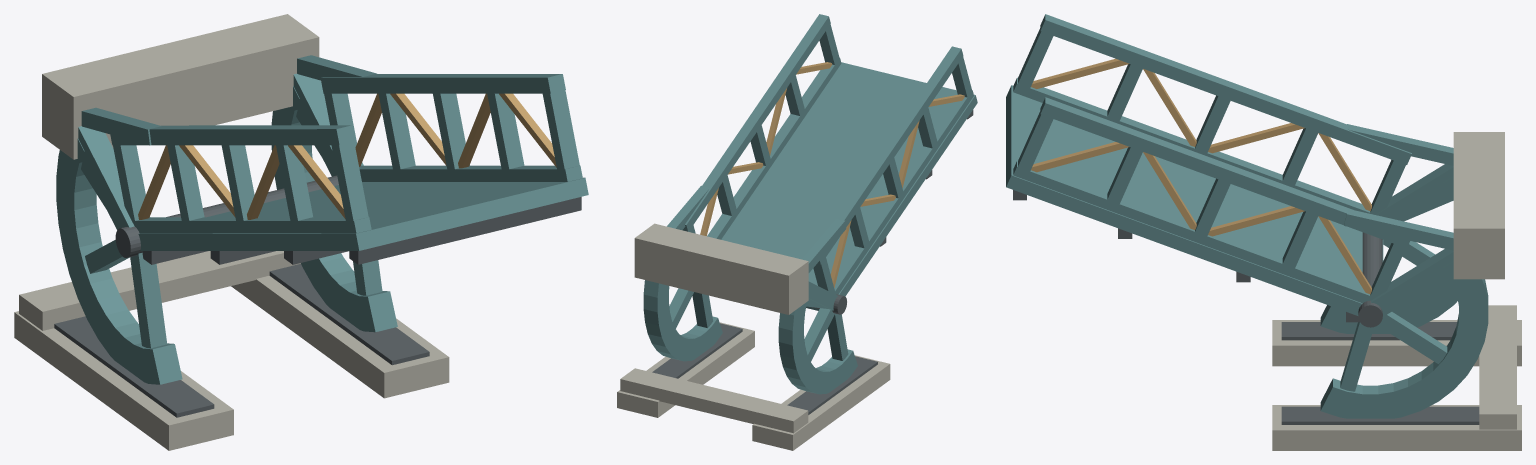
3 renders of one model, left to right at view 1: azimuth 30°, elevation 25°; view 2: azimuth 150°, elevation 25°; view 3: azimuth 270°, elevation 25°, orthographic. The views are drawn at different scales.
Parts seen in each view (by area): view 1: WholeRaisedDeckAndWindowedTrusses, WholeTransverseRearCounterweight, WholeOpenCurvedRollingHeel_-1, WholeGroundFootBearingPier_-1, WholeGroundFootBearingPier_1, WholeFixedRearApproach, WholeOpenCurvedRollingHeel_1, WholeUnderdeckCrossBearer_3, WholeFlatHeelBearingRail_1, WholeFlatHeelBearingRail_-1, WholeRearCounterweightArm_-1, WholeHeelSpoke_-10 (+14 smaller); view 2: WholeRaisedDeckAndWindowedTrusses, WholeTransverseRearCounterweight, WholeFixedRearApproach, WholeOpenCurvedRollingHeel_-1, WholeGroundFootBearingPier_-1, WholeOpenCurvedRollingHeel_1, WholeGroundFootBearingPier_1, WholeFlatHeelBearingRail_-1, WholeFlatHeelBearingRail_1, WholeRearCounterweightUpperBrace_-1, WholeHeelSpoke_-11, WholeHeelSpoke_-10 (+7 smaller); view 3: WholeRaisedDeckAndWindowedTrusses, WholeOpenCurvedRollingHeel_1, WholeTransverseRearCounterweight, WholeGroundFootBearingPier_1, WholeFixedRearApproach, WholeGroundFootBearingPier_-1, WholeFlatHeelBearingRail_1, WholeOpenCurvedRollingHeel_-1, WholeRearCounterweightArm_1, WholeRearCounterweightUpperBrace_1, WholeRearCounterweightArm_-1, WholeFlatHeelBearingRail_-1 (+13 smaller).
Boxes of the visible parts, <box> form: WholeRaisedDeckAndWindowedTrusses: <box>110,74,588,250</box>; WholeTransverseRearCounterweight: <box>42,14,319,159</box>; WholeOpenCurvedRollingHeel_-1: <box>56,138,182,384</box>; WholeGroundFootBearingPier_-1: <box>14,311,233,450</box>; WholeGroundFootBearingPier_1: <box>231,275,449,398</box>; WholeFixedRearApproach: <box>19,251,300,330</box>; WholeOpenCurvedRollingHeel_1: <box>271,86,397,332</box>; WholeUnderdeckCrossBearer_3: <box>349,197,581,264</box>; WholeFlatHeelBearingRail_1: <box>269,264,429,365</box>; WholeFlatHeelBearingRail_-1: <box>54,316,214,417</box>; WholeRearCounterweightArm_-1: <box>78,126,134,229</box>; WholeHeelSpoke_-10: <box>130,252,167,348</box>; WholeRaisedDeckAndWindowedTrusses: <box>682,14,977,310</box>; WholeTransverseRearCounterweight: <box>634,223,808,314</box>; WholeFixedRearApproach: <box>620,368,808,433</box>; WholeOpenCurvedRollingHeel_-1: <box>778,289,857,394</box>; WholeGroundFootBearingPier_-1: <box>752,355,890,450</box>; WholeOpenCurvedRollingHeel_1: <box>643,280,722,361</box>; WholeGroundFootBearingPier_1: <box>617,322,754,417</box>; WholeFlatHeelBearingRail_-1: <box>787,356,877,414</box>; WholeFlatHeelBearingRail_1: <box>652,323,742,378</box>; WholeRearCounterweightUpperBrace_-1: <box>802,219,846,272</box>; WholeHeelSpoke_-11: <box>804,308,834,361</box>; WholeHeelSpoke_-10: <box>827,313,848,360</box>; WholeRaisedDeckAndWindowedTrusses: <box>1006,14,1411,315</box>; WholeOpenCurvedRollingHeel_1: <box>1320,261,1488,418</box>; WholeTransverseRearCounterweight: <box>1453,132,1504,279</box>; WholeGroundFootBearingPier_1: <box>1272,405,1521,450</box>; WholeFixedRearApproach: <box>1479,305,1516,429</box>; WholeGroundFootBearingPier_-1: <box>1272,320,1521,366</box>; WholeFlatHeelBearingRail_1: <box>1281,406,1479,424</box>; WholeOpenCurvedRollingHeel_-1: <box>1320,176,1457,333</box>; WholeRearCounterweightArm_1: <box>1371,249,1453,316</box>; WholeRearCounterweightUpperBrace_1: <box>1344,209,1453,250</box>; WholeRearCounterweightArm_-1: <box>1375,164,1453,220</box>; WholeFlatHeelBearingRail_-1: <box>1281,322,1456,340</box>.
Size of the model in its own units: 2.76 by 3.94 by 5.45.
